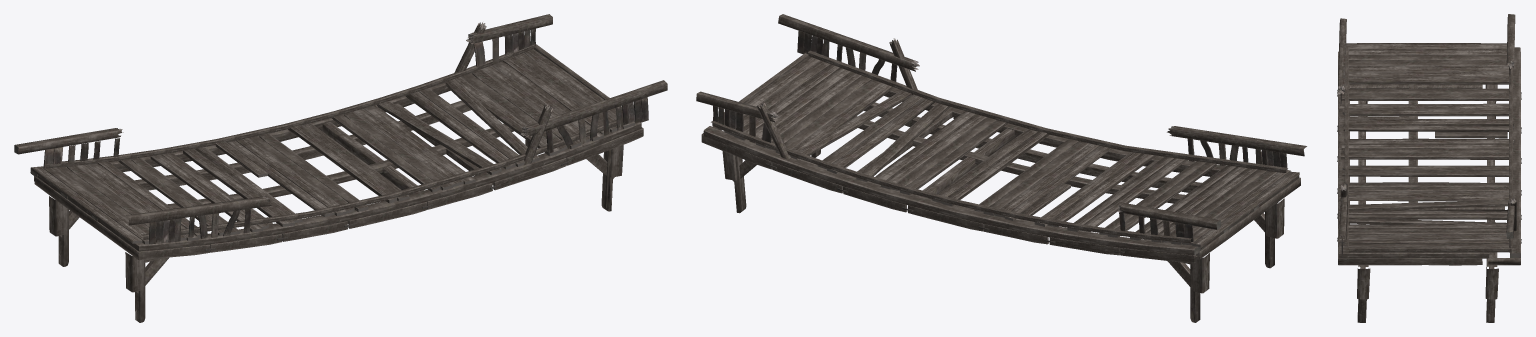
File: aeg004_579_1-transformed.glb
The picture shows the model from 3 angles, left to right: view 1: azimuth 30°, elevation 25°; view 2: azimuth 150°, elevation 25°; view 3: azimuth 270°, elevation 25°; orthographic projection. The views are drawn at different scales.
Visible parts, largest first — view 1: default; view 2: default; view 3: default.
Part boxes in pixels (x1,y1,x2,y2): default: (14, 14, 667, 322); default: (696, 14, 1306, 322); default: (1337, 14, 1521, 322).
Bounding box in the file's own units: 14.59 × 3.33 × 5.04.
Materials: 1 (1 with a texture image).
